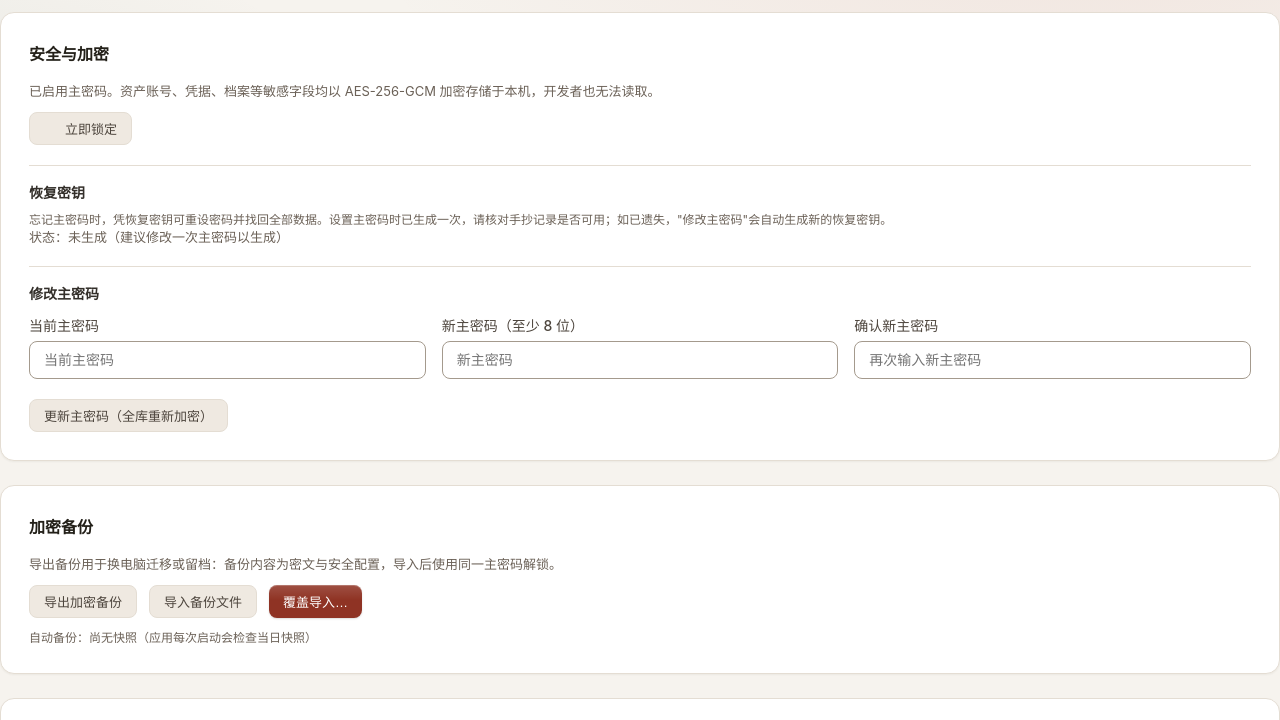
Test: 改主密码（changeMasterPassword） › 缺少当前密码时本地拦截
(page scrolled)
In the password field labelled "新主密码（至少 8 位）": (640, 360) [442, 341, 838, 379], type "new-master-22"
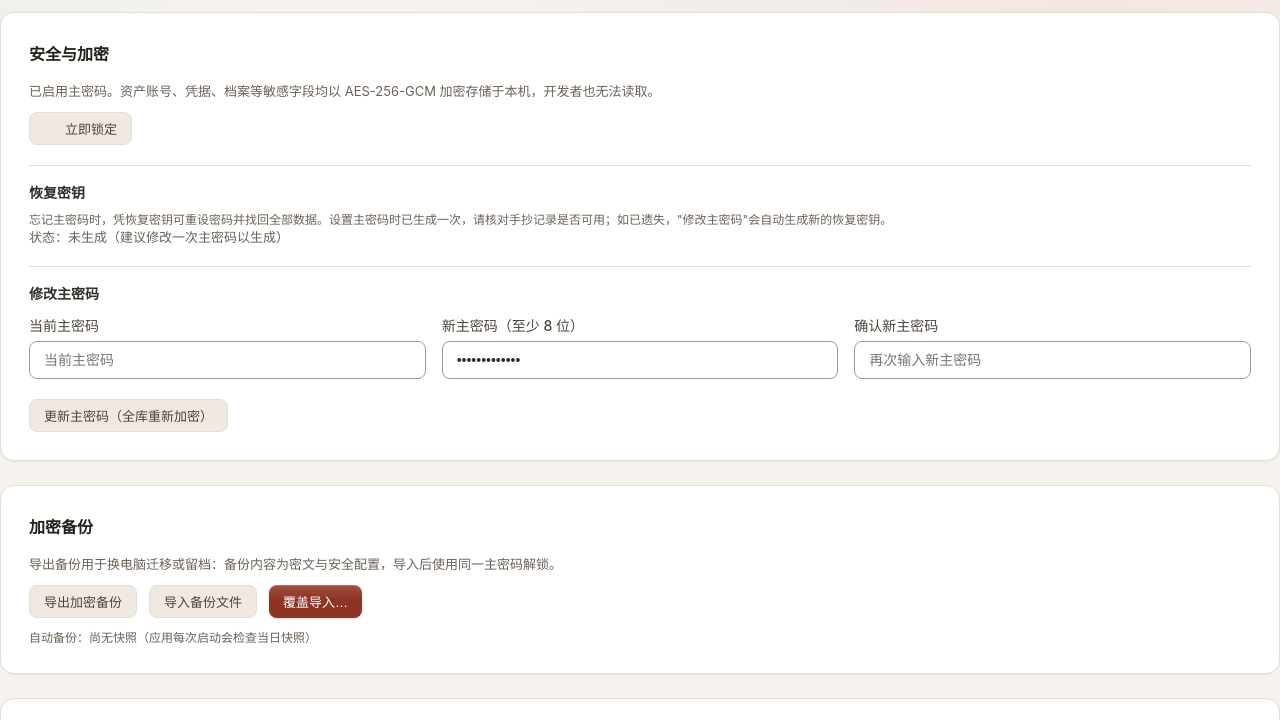
In the password field labelled "确认新主密码": (1053, 360) [854, 341, 1251, 379], type "new-master-22"
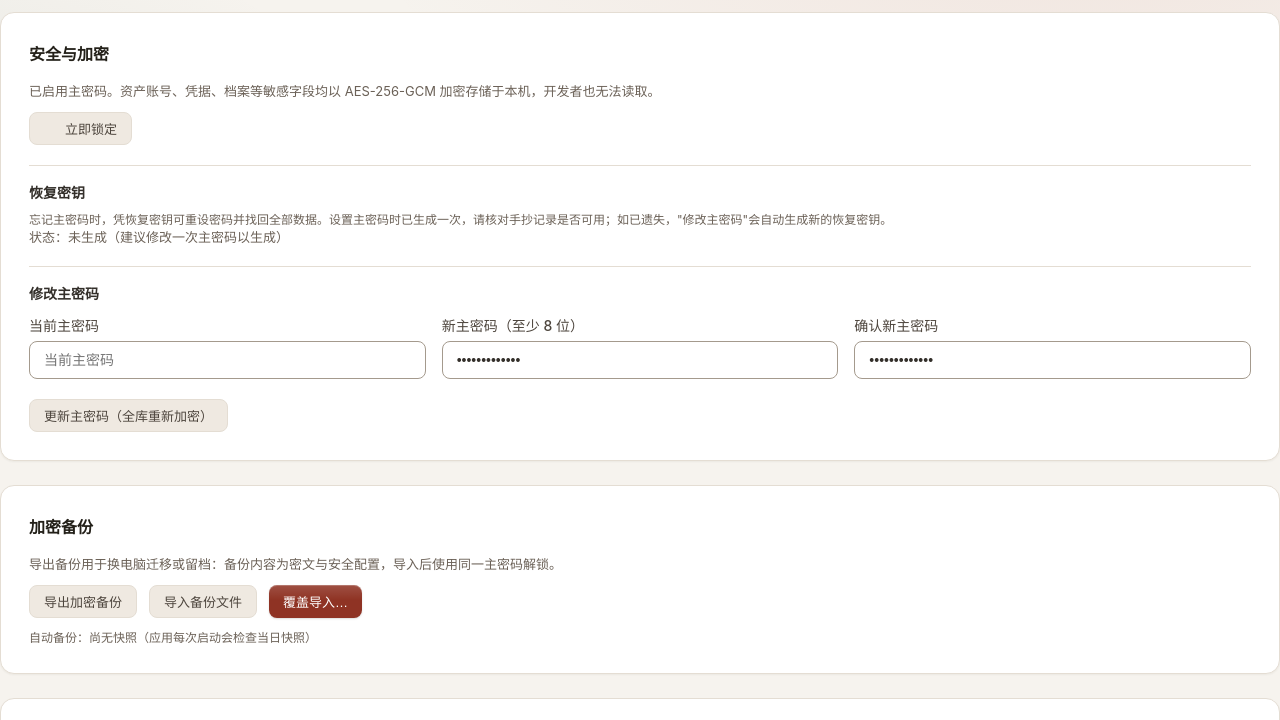
Click the button "更新主密码（全库重新加密）": (128, 416) [29, 399, 228, 432]
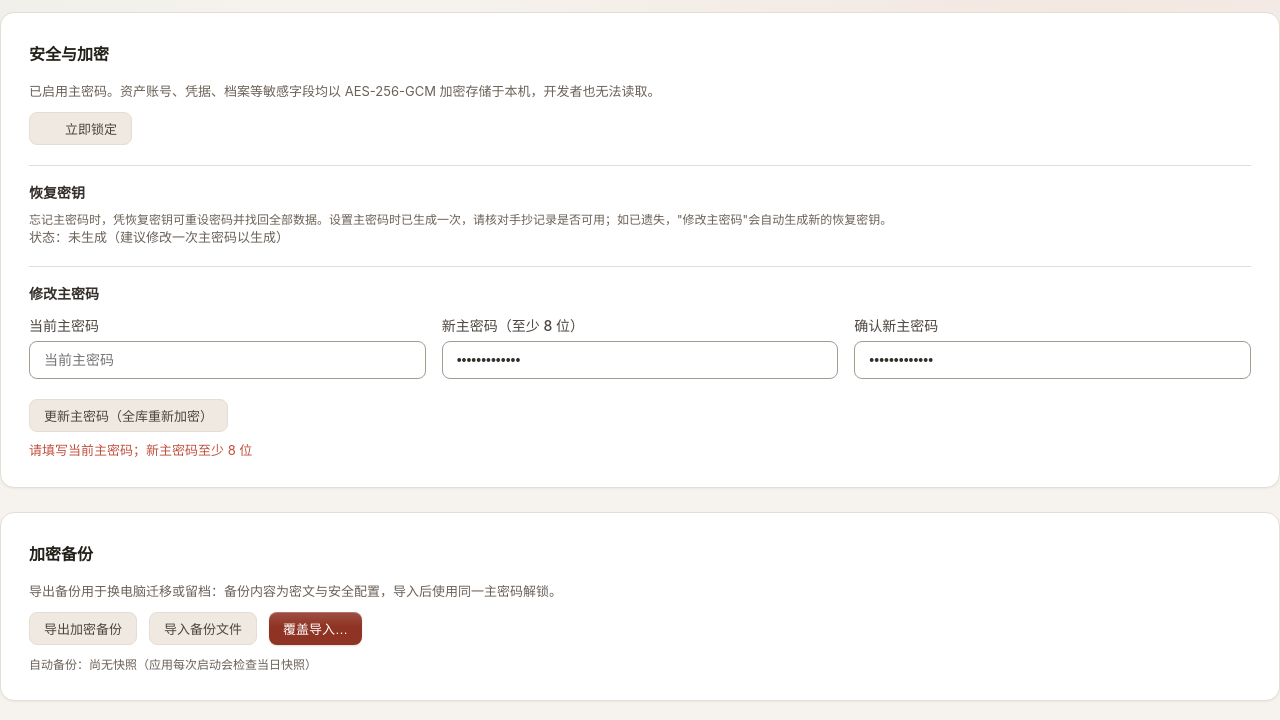
Result: the text "请填写当前主密码" is shown at [29, 442, 252, 458]
